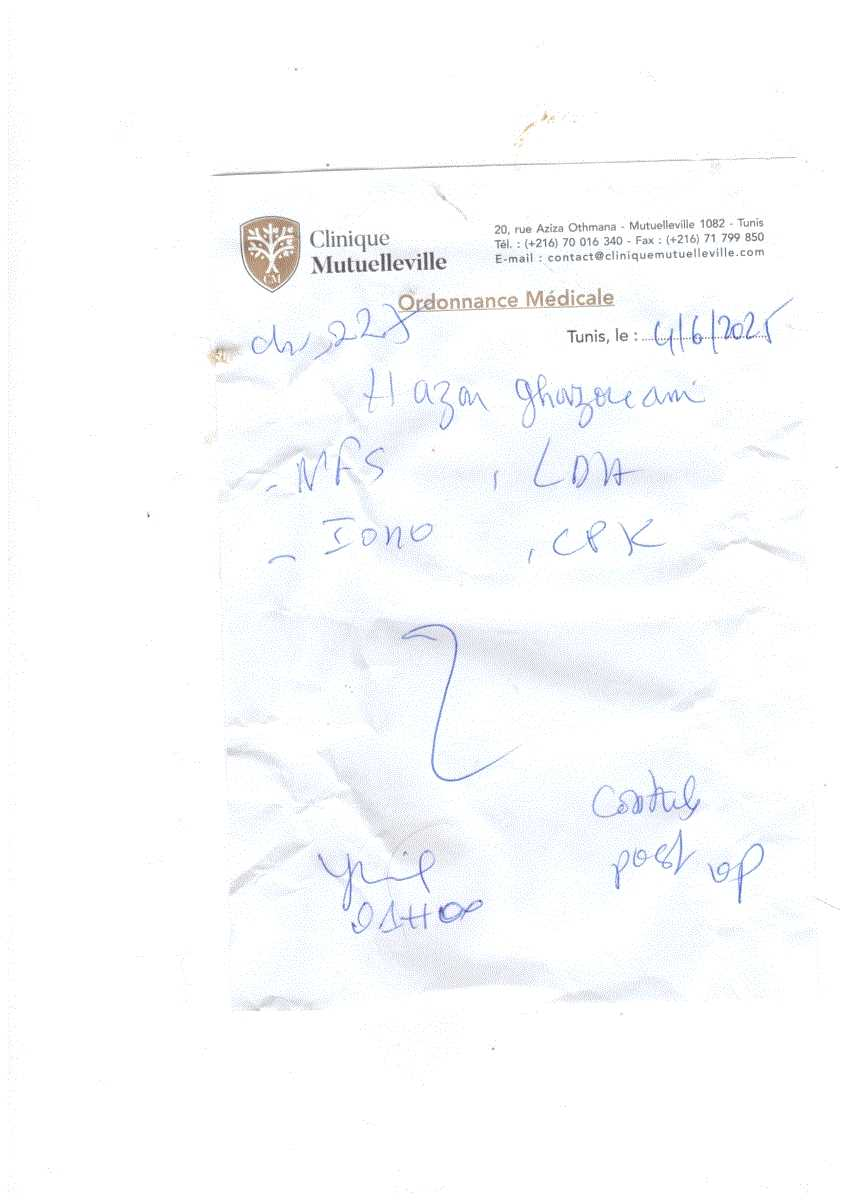zone_analyses: (253, 438, 827, 931)
zone_date: (643, 307, 792, 348)
zone_patient: (354, 360, 711, 425)
zone_prescripteur: (483, 212, 780, 266)
